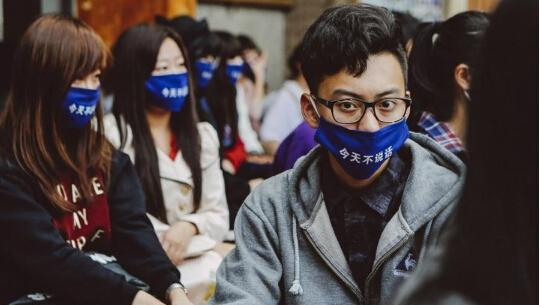OK: (52, 60, 114, 122), (144, 52, 192, 108), (186, 50, 218, 91), (220, 54, 245, 86)
WRONG: (324, 83, 410, 169)
